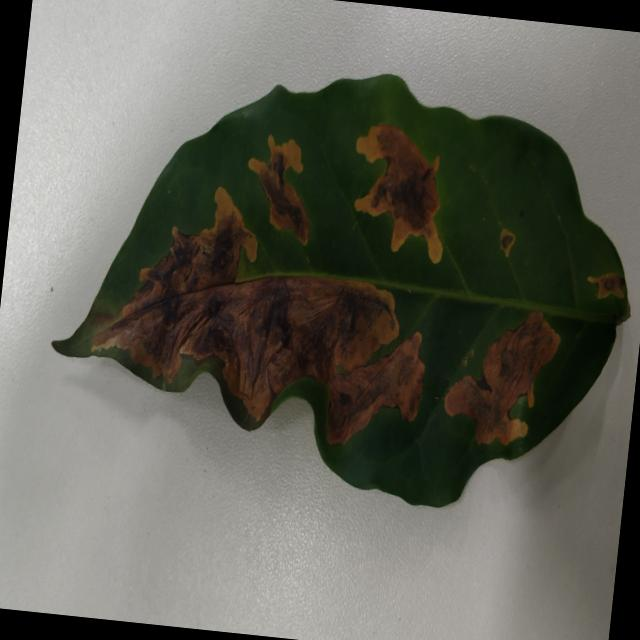KaratDaunKopi: (92, 187, 398, 421), (123, 187, 257, 315), (444, 312, 560, 445), (354, 125, 442, 263), (327, 332, 424, 443), (248, 135, 309, 244), (587, 272, 624, 298), (500, 228, 515, 257)
